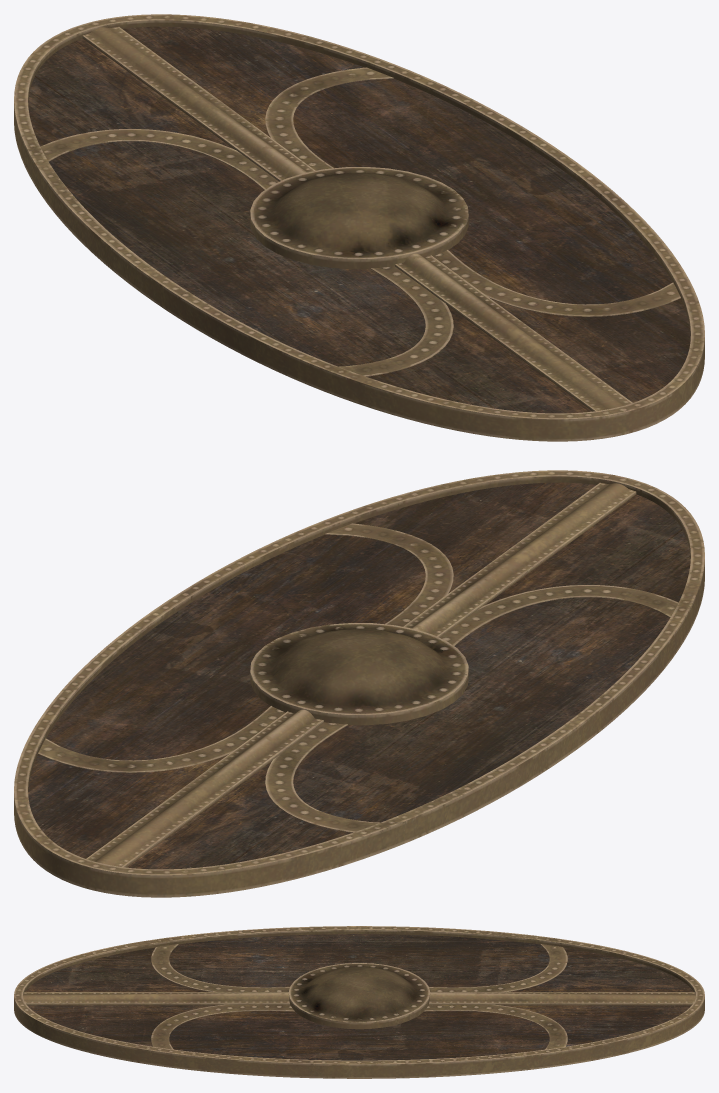
Rendered from dunland_wulf_shield_medium_e.fbx.
3 views of the same model, one above another, from view 1: azimuth 30°, elevation 25°; view 2: azimuth 150°, elevation 25°; view 3: azimuth 270°, elevation 25° (orthographic). The views are drawn at different scales.
Parts seen in each view (by area): view 1: dunland_wulf_shield_medium_e; view 2: dunland_wulf_shield_medium_e; view 3: dunland_wulf_shield_medium_e.
Boxes of the visible parts, x1,y1,x2,y2 form: dunland_wulf_shield_medium_e: (14, 14, 704, 441); dunland_wulf_shield_medium_e: (14, 470, 704, 897); dunland_wulf_shield_medium_e: (14, 926, 704, 1078).
Size of the model in its own units: 0.7189 by 1.52 by 0.0818.
Materials: 1 (1 with a texture image).
